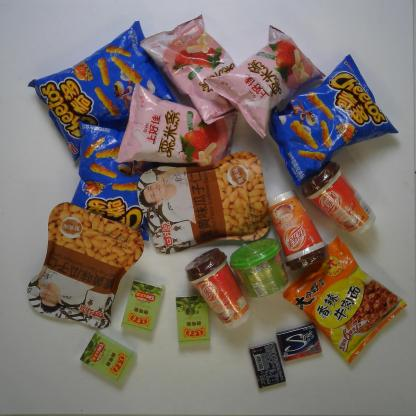Candy: (79, 330, 136, 384), (120, 278, 166, 337), (172, 295, 214, 345)
Dried Fruit: (25, 200, 144, 332), (135, 148, 272, 256)
Gum: (247, 342, 288, 390), (274, 324, 323, 363)
Instant Drink: (301, 160, 378, 238), (186, 247, 251, 330), (267, 189, 328, 273), (228, 237, 288, 301)
Instant Noodles: (281, 238, 409, 366)
Puffed Food: (26, 20, 179, 162), (266, 53, 400, 189), (203, 25, 328, 140), (137, 13, 247, 126), (71, 118, 160, 243), (113, 85, 239, 173)
